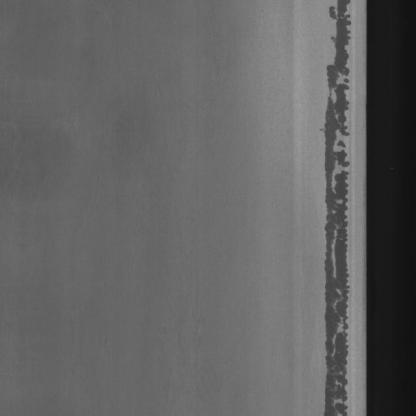oil_spot: (302, 0, 356, 415)
